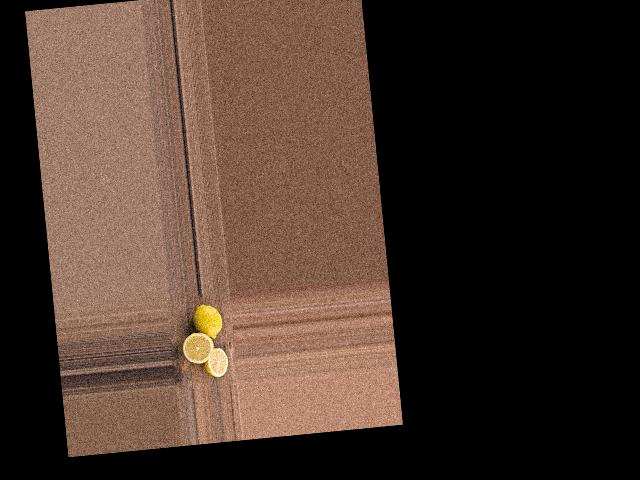lemon: (191, 304, 227, 340)
